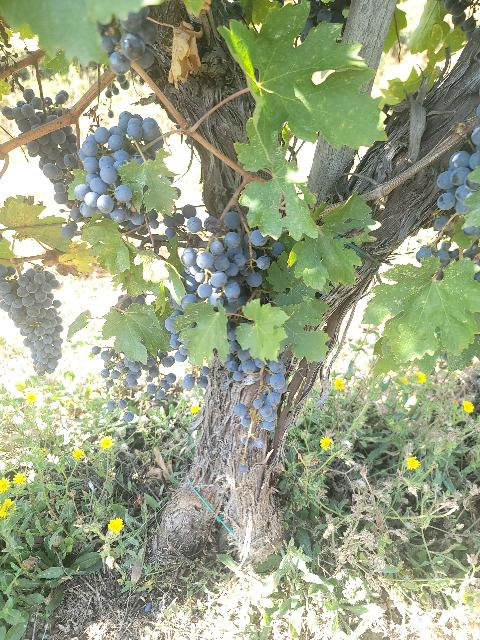grapes: (174, 211, 284, 314), (71, 111, 162, 224), (0, 265, 63, 375), (25, 109, 79, 201), (2, 88, 69, 134)
